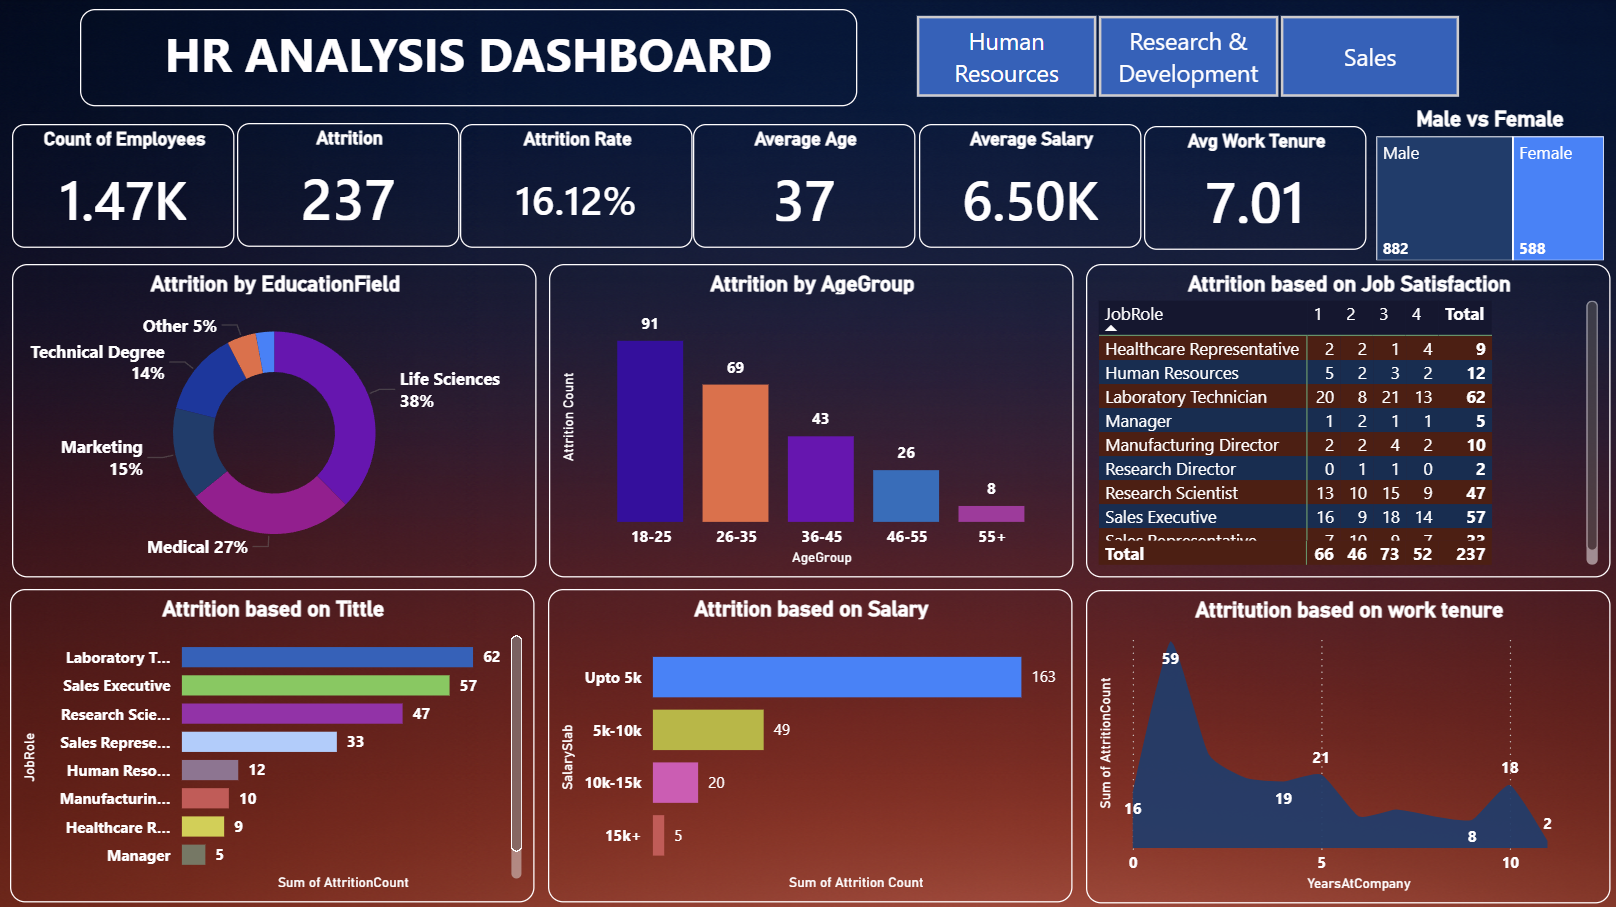

The dashboard page shown, as its layout file describes it:
{"tool":"powerbi","page":{"name":"Page 1","canvas":[1280,720],"ordinal":0},"visuals":[{"type":"textbox","box":[64.7,8.8,614.7,77.5],"z":0},{"type":"slicer","fields":{"Values":["Employee_Data.Department"]},"box":[701,6.9,479.4,78.4],"z":1},{"type":"cardVisual","title":"Attrition","fields":{"Data":["Employee_Data.Attrition Count"]},"box":[189.2,99,176.5,98],"z":3},{"type":"cardVisual","title":"Attrition Rate","fields":{"Data":["Employee_Data.Attrition Rate"]},"box":[367.6,100,180.4,98],"z":4},{"type":"cardVisual","title":"Average Age","fields":{"Data":["Employee_Data.Avg Age"]},"box":[550,100,176.5,98],"z":5},{"type":"cardVisual","title":"Average Salary","fields":{"Data":["Employee_Data.Avg Salary"]},"box":[728.4,100,176.5,98],"z":6},{"type":"cardVisual","title":"Avg Work Tenure","fields":{"Data":["Employee_Data.Avg Tenure"]},"box":[906.9,101,176.5,98],"z":7},{"type":"treemap","title":"Male vs Female","fields":{"Group":["Employee_Data.Gender"],"Values":["Employee_Data.Gender Count"]},"box":[1085.3,85.3,190.2,127.5],"z":8},{"type":"donutChart","title":"Attrition by EducationField","fields":{"Category":["Employee_Data.EducationField"],"Y":["Employee_Data.Attrition Count"]},"box":[10.8,210.8,415,248],"z":9},{"type":"clusteredColumnChart","title":"Attrition by AgeGroup","fields":{"Category":["Employee_Data.AgeGroup"],"Y":["Employee_Data.Attrition Count"]},"box":[436.3,210.8,415,248],"z":10},{"type":"barChart","title":"Attrition based on Salary","fields":{"Category":["Employee_Data.SalarySlab"],"Y":["Employee_Data.Attrition Count (No Blank)"]},"box":[435.3,467.6,415,248],"z":13},{"type":"areaChart","title":"Attritution based on work tenure","fields":{"Category":["Employee_Data.YearsAtCompany"],"Y":["Employee_Data.Attrition Count (No Blank)"]},"box":[860.8,468.6,415,248],"z":14},{"type":"cardVisual","title":"Count of Employees","fields":{"Data":["Employee_Data.Total Employees"]},"box":[10.8,100,176.5,98],"z":16},{"type":"clusteredBarChart","title":"Attrition based on Tittle","fields":{"Category":["Employee_Data.JobRole"],"Y":["Employee_Data.Attrition Count (No Blank)"]},"box":[9.8,467.6,414.7,248],"z":17},{"type":"pivotTable","title":"Attrition based on Job Satisfaction","fields":{"Rows":["Employee_Data.JobRole"],"Columns":["Employee_Data.JobSatisfaction"],"Values":["Employee_Data.Attrition Count (No Blank)"]},"box":[860.8,210.8,415,248],"z":18}]}

Visuals, with their boxes in screenshot pixels (x1, y1, x2, y2), scaled from the page's 1280x720 canvas onto the 1616x907 screenshot:
textbox: pyautogui.locateOnScreen(82, 11, 858, 109)
slicer - Employee_Data.Department: pyautogui.locateOnScreen(885, 9, 1490, 107)
"Attrition" cardVisual: pyautogui.locateOnScreen(239, 125, 462, 248)
"Attrition Rate" cardVisual: pyautogui.locateOnScreen(464, 126, 692, 249)
"Average Age" cardVisual: pyautogui.locateOnScreen(694, 126, 917, 249)
"Average Salary" cardVisual: pyautogui.locateOnScreen(920, 126, 1142, 249)
"Avg Work Tenure" cardVisual: pyautogui.locateOnScreen(1145, 127, 1368, 251)
"Male vs Female" treemap: pyautogui.locateOnScreen(1370, 107, 1610, 268)
"Attrition by EducationField" donutChart: pyautogui.locateOnScreen(14, 266, 538, 578)
"Attrition by AgeGroup" clusteredColumnChart: pyautogui.locateOnScreen(551, 266, 1075, 578)
"Attrition based on Salary" barChart: pyautogui.locateOnScreen(550, 589, 1074, 901)
"Attritution based on work tenure" areaChart: pyautogui.locateOnScreen(1087, 590, 1611, 903)
"Count of Employees" cardVisual: pyautogui.locateOnScreen(14, 126, 236, 249)
"Attrition based on Tittle" clusteredBarChart: pyautogui.locateOnScreen(12, 589, 536, 901)
"Attrition based on Job Satisfaction" pivotTable: pyautogui.locateOnScreen(1087, 266, 1611, 578)
